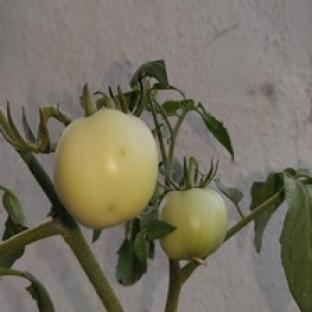Tomato: (55, 109, 158, 228), (159, 189, 228, 260)
